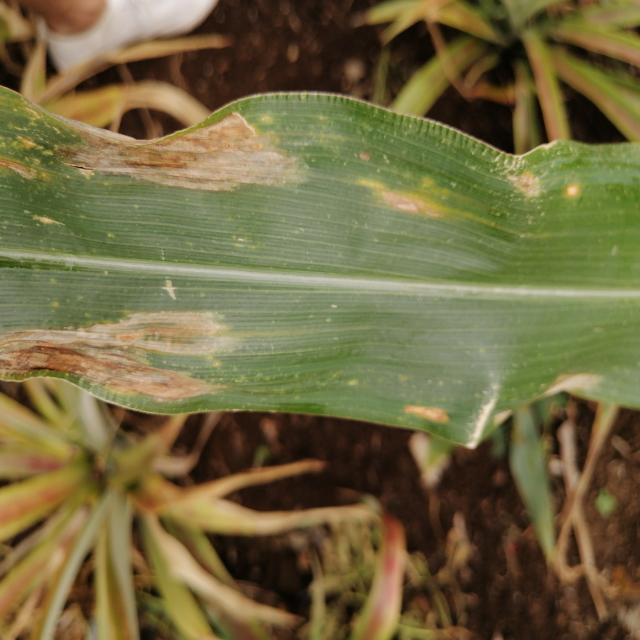Corn_Leaf_Blight: (0, 84, 640, 458)
